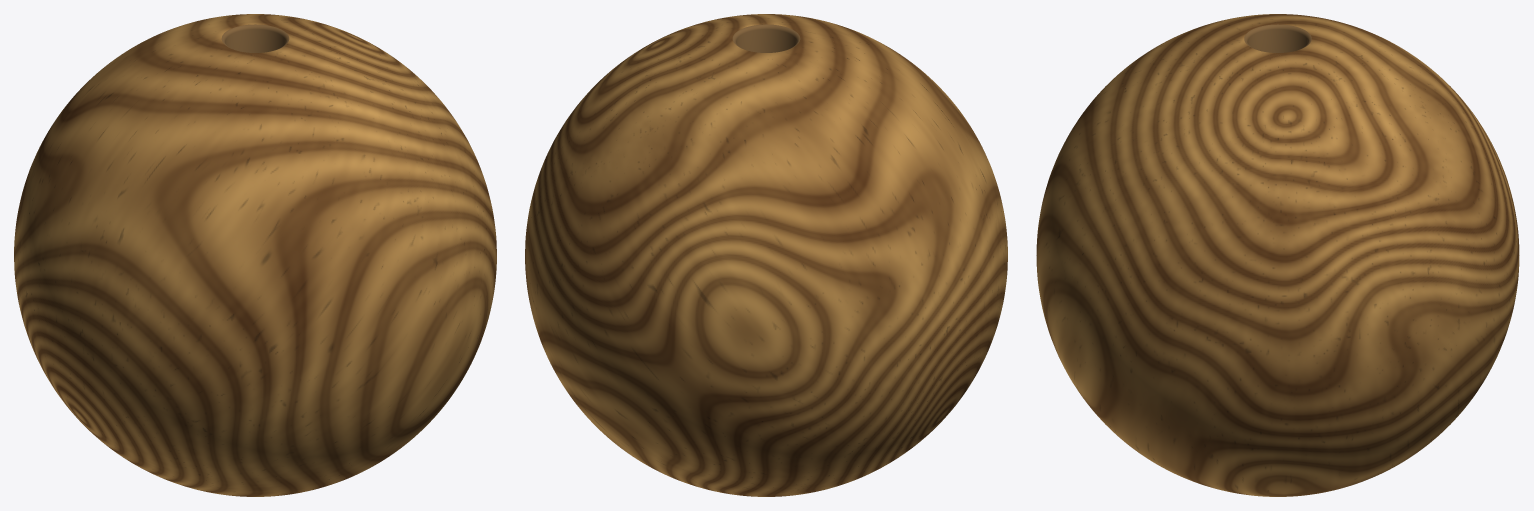
Rendered from hainan-huanghuali-8mm.glb.
The picture shows the model from 3 angles, left to right: view 1: azimuth 30°, elevation 25°; view 2: azimuth 150°, elevation 25°; view 3: azimuth 270°, elevation 25°; orthographic projection.
Visible parts, largest first — view 1: hainan-huanghuali; view 2: hainan-huanghuali; view 3: hainan-huanghuali.
Part boxes in pixels (bbox=[...]): hainan-huanghuali: bbox=[14, 14, 496, 496]; hainan-huanghuali: bbox=[525, 14, 1007, 496]; hainan-huanghuali: bbox=[1036, 14, 1519, 496].
Bounding box in the file's own units: 0.008 × 0.00792 × 0.008.
2 materials, 1 textured.
